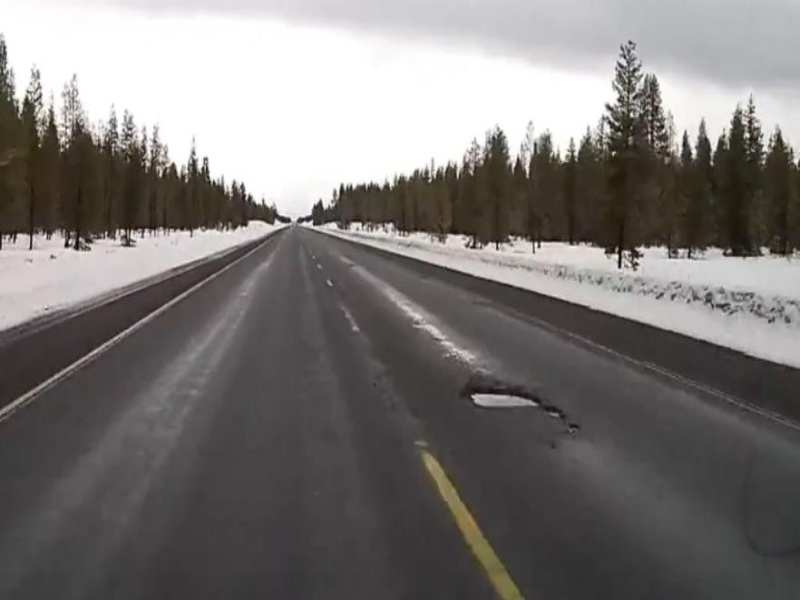pothole: (458, 379, 549, 415)
